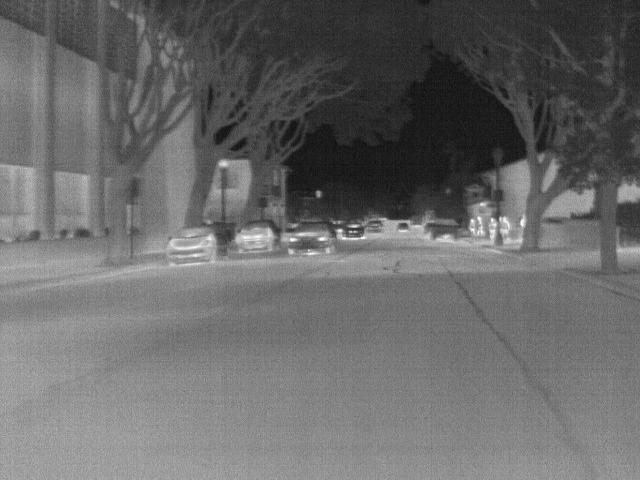car: (163, 222, 231, 266), (285, 218, 339, 259), (232, 218, 278, 253), (429, 219, 460, 242), (342, 221, 364, 242), (366, 220, 384, 234), (409, 214, 425, 228), (281, 226, 294, 241), (420, 220, 433, 234), (395, 222, 408, 232)
person: (476, 214, 488, 235), (488, 217, 497, 241), (501, 216, 509, 241), (468, 216, 477, 235)
